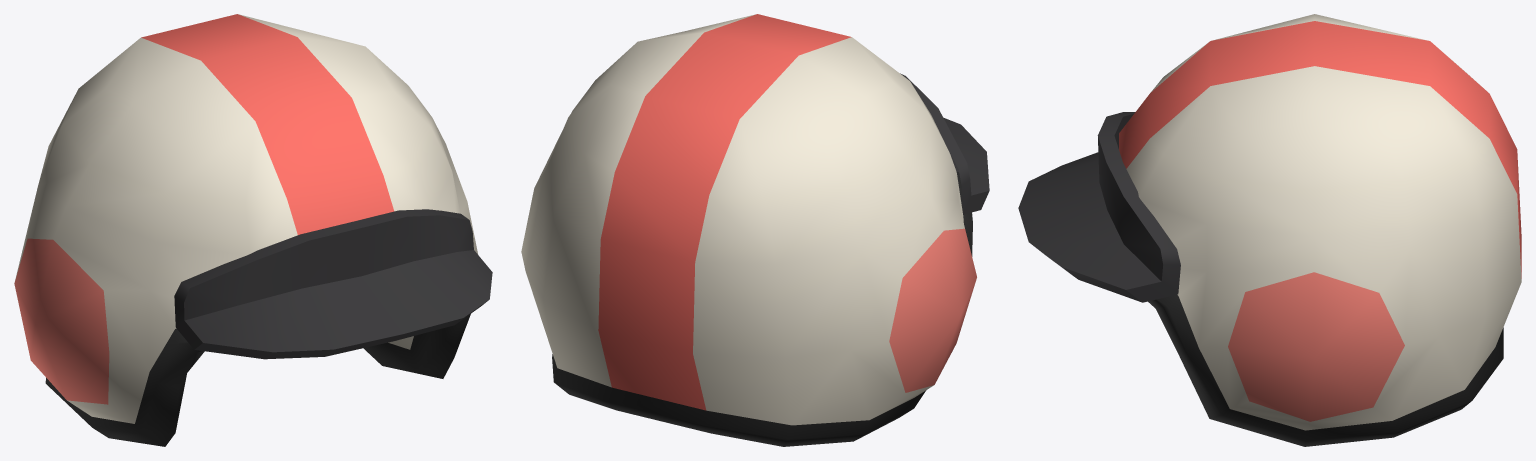
The model's file is Headgear_53.fbx.
The picture shows the model from 3 angles, left to right: view 1: azimuth 30°, elevation 25°; view 2: azimuth 150°, elevation 25°; view 3: azimuth 270°, elevation 25°; orthographic projection. The views are drawn at different scales.
Visible parts, largest first — view 1: Headgear_53; view 2: Headgear_53; view 3: Headgear_53.
Boxes of the visible parts, box(x1,y1,x2,y2) form: Headgear_53: box(14, 14, 492, 446); Headgear_53: box(521, 14, 989, 446); Headgear_53: box(1018, 14, 1521, 446).
Bounding box in the file's own units: 92.66 × 72.28 × 98.34.
